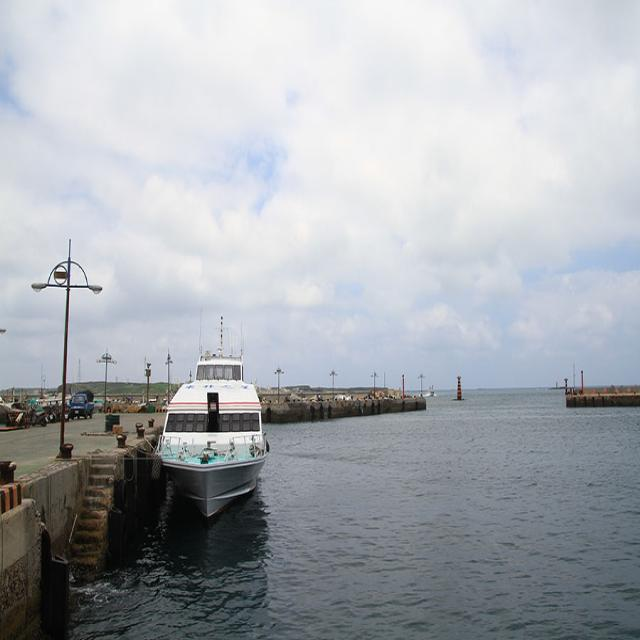houseboat: (157, 337, 268, 514)
